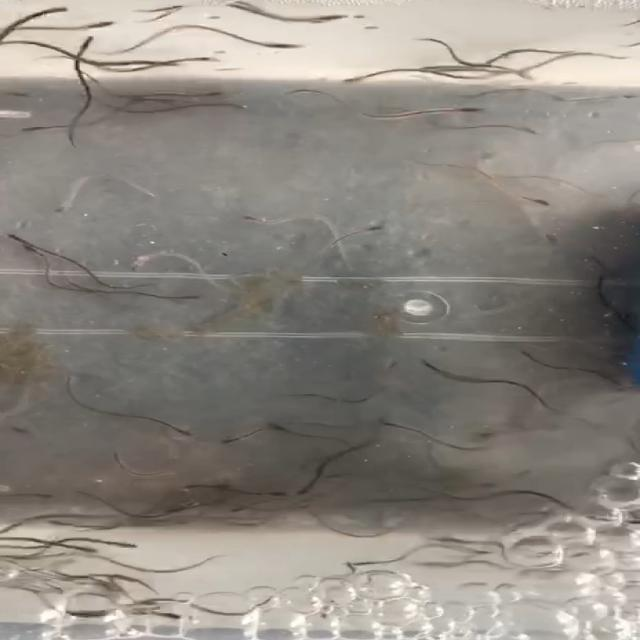active_glass_eel: (526, 230, 578, 248), (455, 102, 513, 118), (11, 120, 59, 136), (608, 370, 640, 393), (0, 86, 48, 101), (110, 534, 146, 554), (378, 358, 412, 379), (349, 220, 389, 237), (149, 608, 183, 628), (522, 197, 574, 210), (454, 541, 502, 555), (399, 554, 437, 571), (168, 420, 200, 440), (186, 507, 226, 523), (55, 543, 108, 555), (605, 516, 640, 534), (36, 5, 90, 16), (471, 57, 508, 73), (378, 416, 406, 437), (266, 37, 308, 51), (174, 286, 208, 303), (324, 71, 368, 84), (318, 10, 358, 24), (199, 82, 236, 97), (344, 553, 378, 569), (236, 211, 269, 227), (427, 529, 462, 544), (120, 594, 155, 609), (2, 422, 39, 436), (264, 419, 292, 437), (74, 34, 98, 54), (291, 483, 325, 497), (183, 52, 222, 64), (452, 64, 481, 80), (19, 487, 52, 501), (12, 247, 42, 262), (120, 258, 152, 272), (584, 65, 628, 75), (420, 355, 443, 374), (218, 431, 242, 449), (88, 17, 115, 32), (509, 126, 543, 137), (0, 230, 22, 246), (470, 151, 497, 164), (49, 200, 76, 212), (508, 68, 535, 80)
